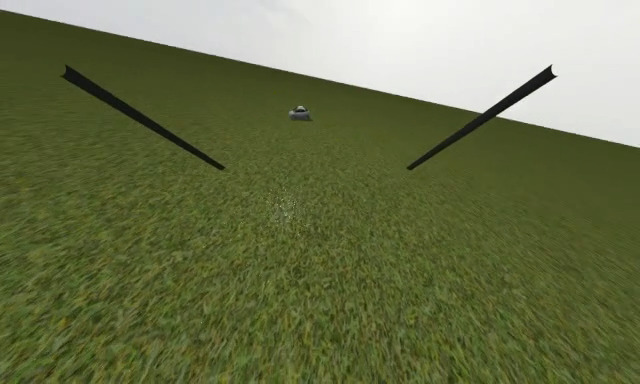Car: (288, 103, 312, 122)
